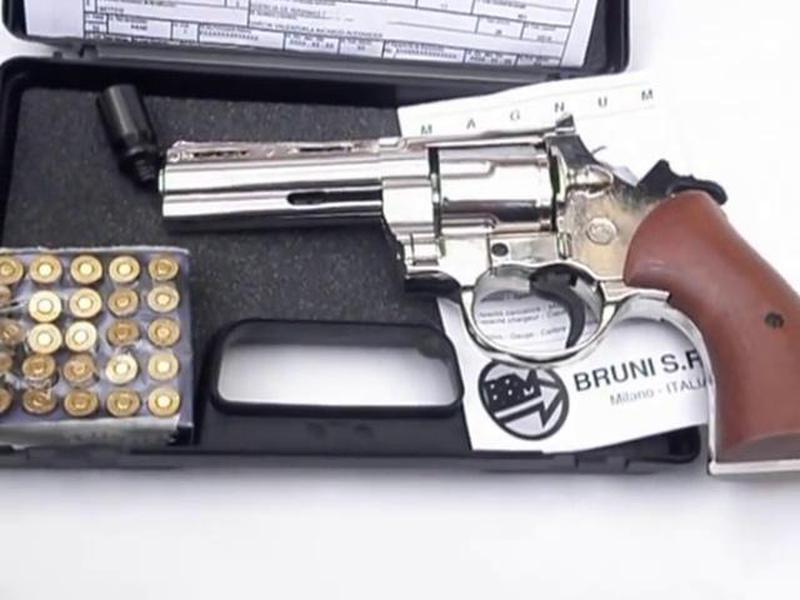Revolver: (162, 109, 800, 414)
